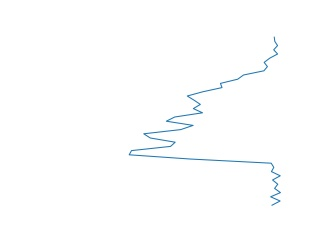proximalDeepseaFan: (122, 37, 285, 208)
